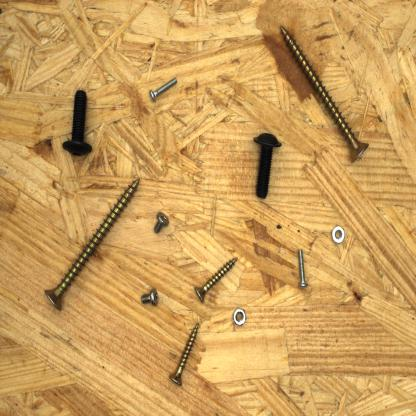screw: (40, 175, 144, 315), (276, 19, 373, 166), (58, 83, 96, 159), (191, 251, 241, 304), (167, 318, 203, 388), (248, 129, 283, 201), (145, 74, 180, 104), (295, 245, 312, 293), (139, 284, 163, 309), (152, 207, 170, 236)
